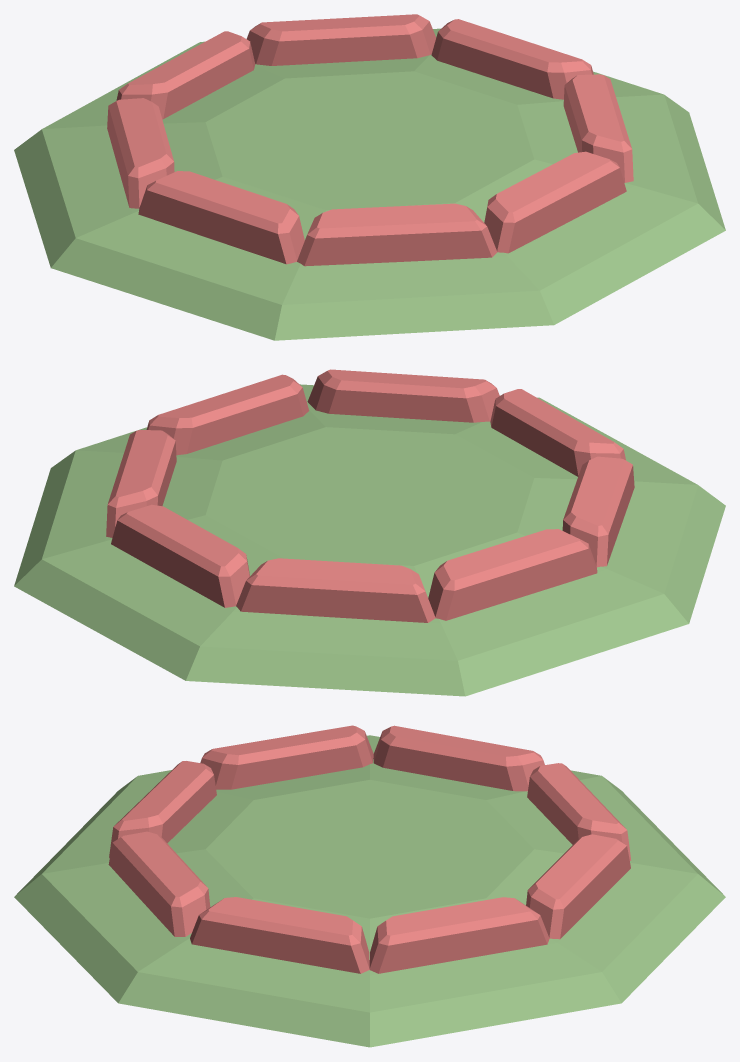
Rendered from спавнпоинт-2.fbx.
The picture shows the model from 3 angles, top to bottom: view 1: azimuth 30°, elevation 25°; view 2: azimuth 150°, elevation 25°; view 3: azimuth 270°, elevation 25°; orthographic projection. The views are drawn at different scales.
Visible parts, largest first — view 1: Спавн основа, Спавн сосиски; view 2: Спавн основа, Спавн сосиски; view 3: Спавн основа, Спавн сосиски.
Boxes of the visible parts, x1,y1,x2,y2 form: Спавн основа: (14, 28, 725, 340); Спавн сосиски: (107, 14, 633, 266); Спавн основа: (14, 384, 725, 696); Спавн сосиски: (106, 369, 634, 622); Спавн основа: (14, 735, 725, 1047); Спавн сосиски: (108, 725, 631, 973).
Size of the model in its own units: 2.41 by 0.2638 by 2.41.
